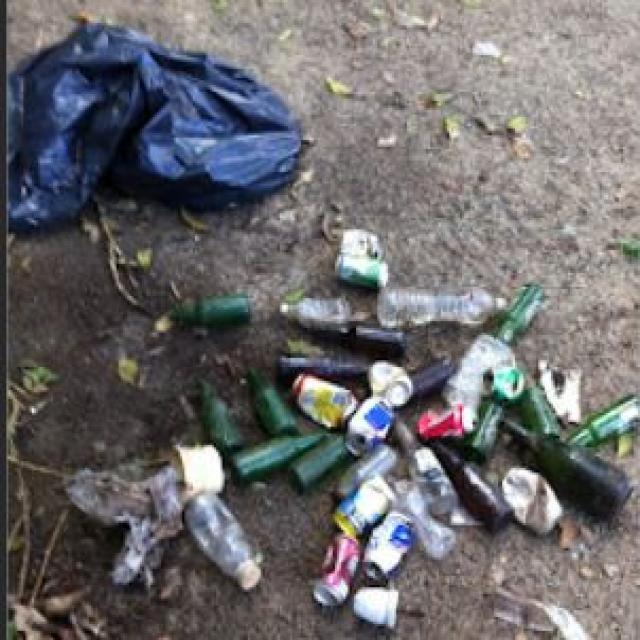dry: (15, 14, 323, 236), (56, 451, 183, 606), (288, 371, 361, 428), (332, 481, 403, 534), (337, 228, 395, 290), (322, 532, 357, 617), (419, 404, 481, 445)
